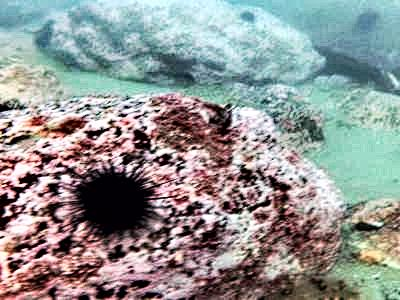urchin: (55, 157, 157, 241)
